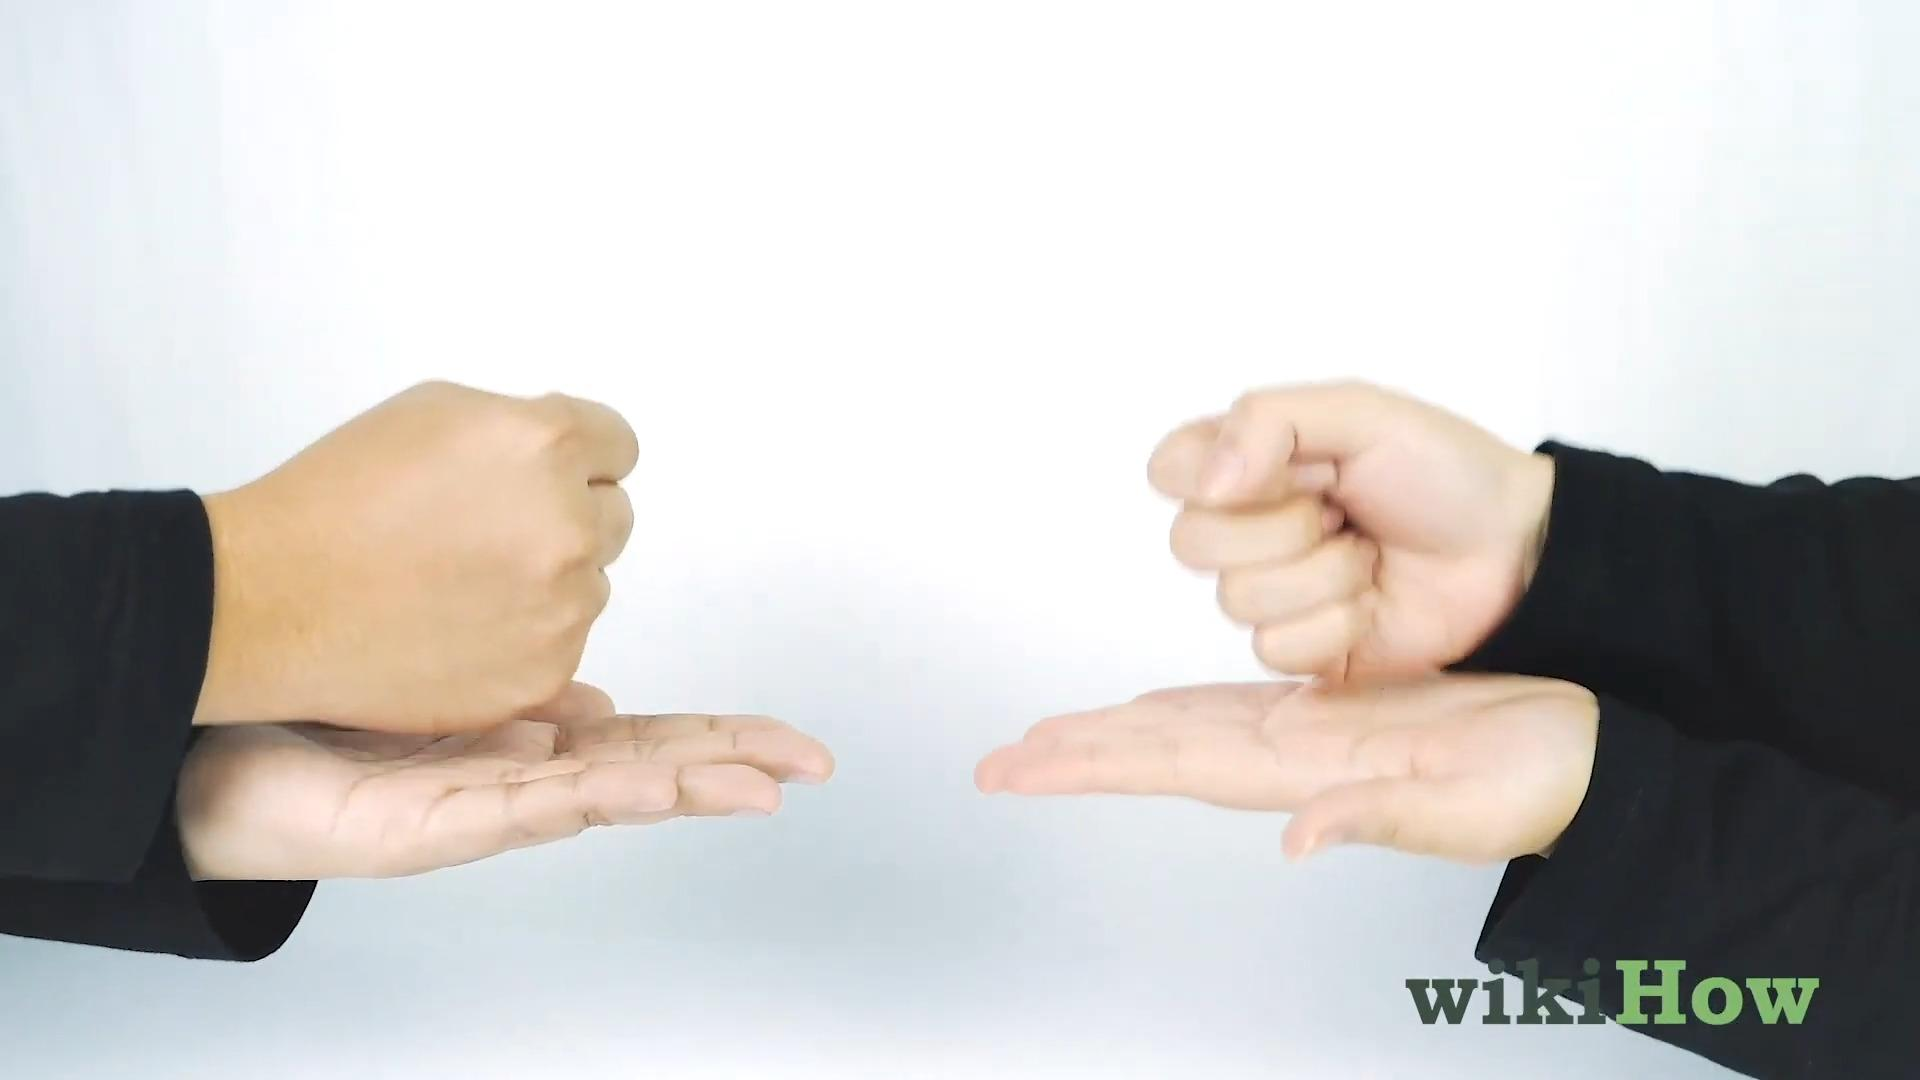Rock: (255, 375, 640, 738), (1145, 380, 1524, 687)
